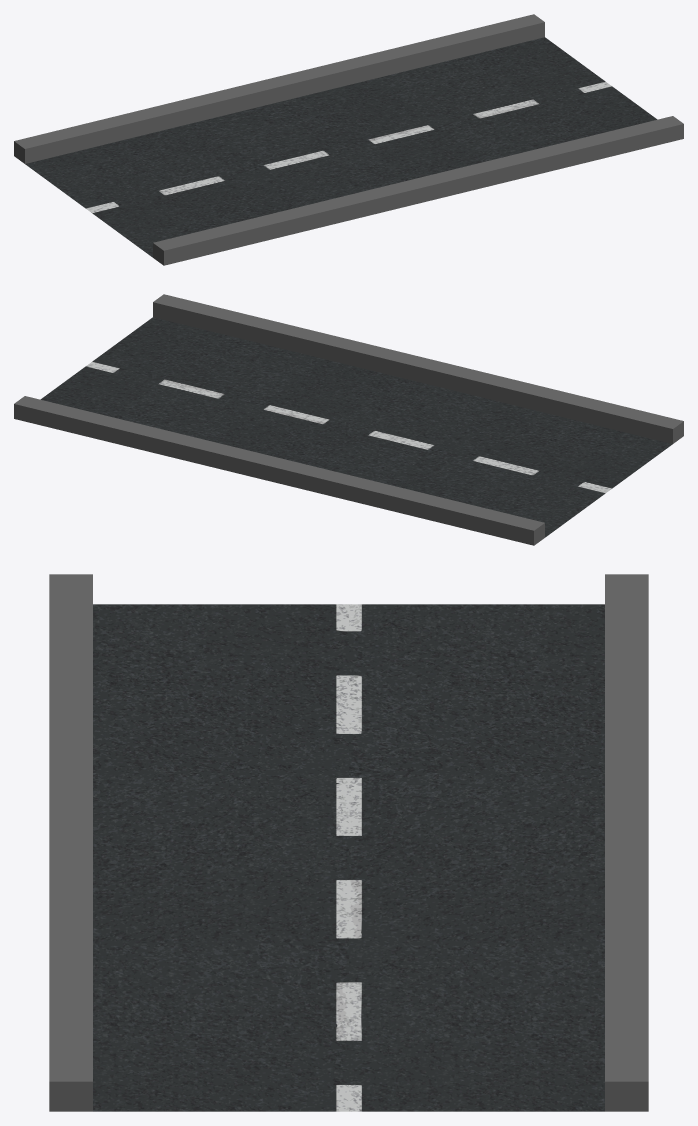
The model's file is Road.fbx.
The picture shows the model from 3 angles, top to bottom: view 1: azimuth 30°, elevation 25°; view 2: azimuth 150°, elevation 25°; view 3: azimuth 270°, elevation 25°; orthographic projection. The views are drawn at different scales.
Parts seen in each view (by area): view 1: Road A_basic, Road A_side; view 2: Road A_basic, Road A_side; view 3: Road A_basic, Road A_side.
Part boxes in pixels (box(x1,y1,x2,y2)): Road A_basic: box(25, 37, 657, 257); Road A_side: box(14, 14, 683, 265); Road A_basic: box(40, 317, 672, 537); Road A_side: box(14, 294, 683, 545); Road A_basic: box(93, 604, 604, 1111); Road A_side: box(49, 574, 648, 1111).
Bounding box in the file's own units: 10888 × 300 × 5434.
Materials: 2 (1 with a texture image).
